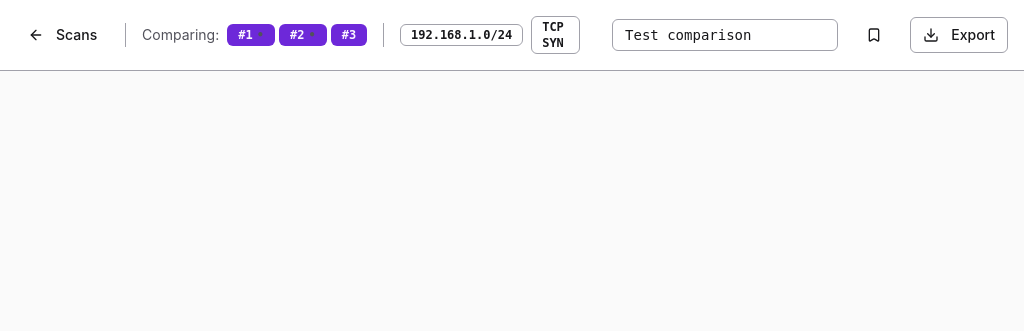
Test: Export Workflow › export options show descriptions
The width and height of the screenshot is (1024, 331).
What coordinates should you click on to do the following:
click the button "Export"
I would click on:
 (959, 35)
Its box is [910,17,1008,53].
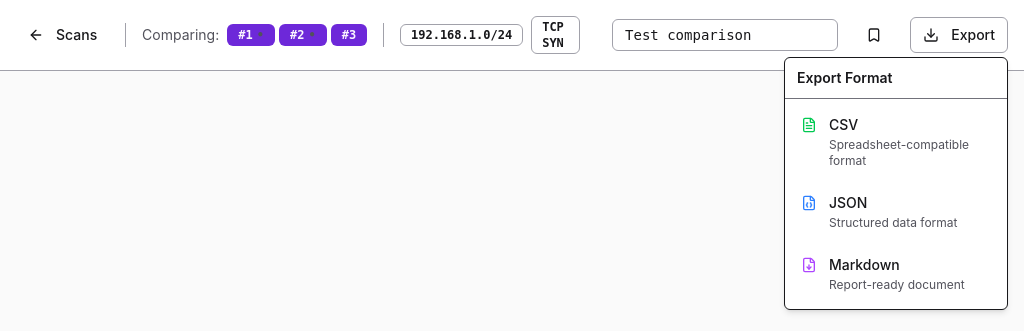
Check: the text "Spreadsheet-compatible format" is shown, box [829,137,991,169]
Check: the text "Structured data format" is shown, box [829,215,958,231]
Check: the text "Report-ready document" is shown, box [829,277,965,293]
